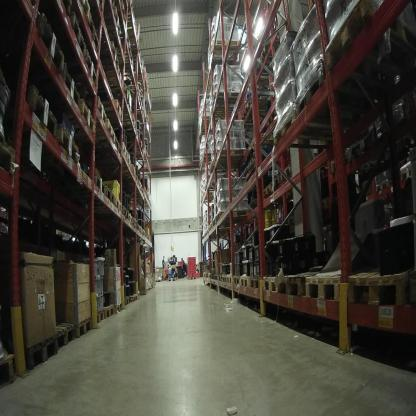pallet: (321, 4, 410, 98), (292, 70, 408, 133), (263, 114, 363, 154), (345, 258, 408, 312), (30, 8, 70, 74), (18, 81, 59, 140), (305, 264, 347, 310), (24, 334, 59, 381), (41, 317, 76, 358), (52, 126, 84, 164), (346, 124, 374, 163), (66, 10, 89, 57), (282, 267, 312, 299), (99, 91, 127, 125), (65, 315, 95, 345), (1, 347, 22, 389), (97, 39, 120, 75), (96, 8, 124, 37), (66, 64, 82, 114), (78, 98, 99, 136), (250, 61, 283, 84), (210, 89, 245, 110), (213, 146, 251, 165), (2, 135, 16, 186), (214, 208, 251, 227), (112, 79, 132, 112), (255, 141, 286, 162), (84, 47, 99, 89), (238, 112, 271, 131), (93, 117, 116, 142), (211, 37, 242, 55), (331, 148, 348, 180), (88, 170, 107, 198), (261, 39, 285, 61), (245, 96, 274, 114), (207, 161, 244, 175), (88, 12, 101, 51), (278, 161, 300, 184), (261, 271, 285, 292), (102, 67, 122, 91), (88, 302, 105, 329), (95, 93, 107, 129), (375, 176, 397, 195), (128, 144, 148, 164), (116, 115, 137, 132), (398, 161, 414, 181), (76, 0, 94, 17), (201, 178, 216, 198), (248, 273, 265, 290), (212, 216, 235, 228), (118, 138, 129, 160), (101, 305, 116, 321), (122, 149, 132, 173), (106, 183, 116, 206), (131, 174, 143, 193), (260, 178, 270, 200), (269, 171, 279, 190), (120, 204, 130, 222), (241, 274, 250, 293), (115, 138, 123, 156), (132, 213, 139, 233), (131, 165, 138, 184), (116, 193, 123, 211), (208, 225, 226, 232), (137, 220, 143, 237), (232, 276, 241, 286), (226, 275, 234, 285), (127, 212, 132, 227), (222, 273, 228, 285), (142, 228, 146, 238), (218, 274, 223, 282), (214, 273, 219, 280), (211, 268, 216, 275), (210, 275, 214, 282)
